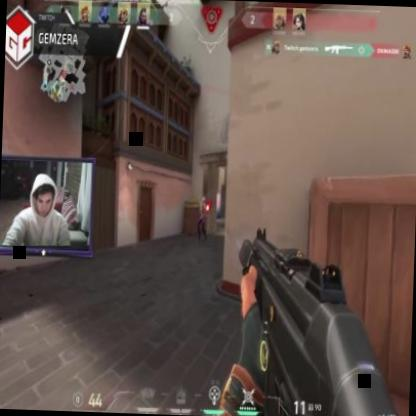enemy: (197, 193, 209, 240)
enemy_head: (202, 198, 205, 204)
